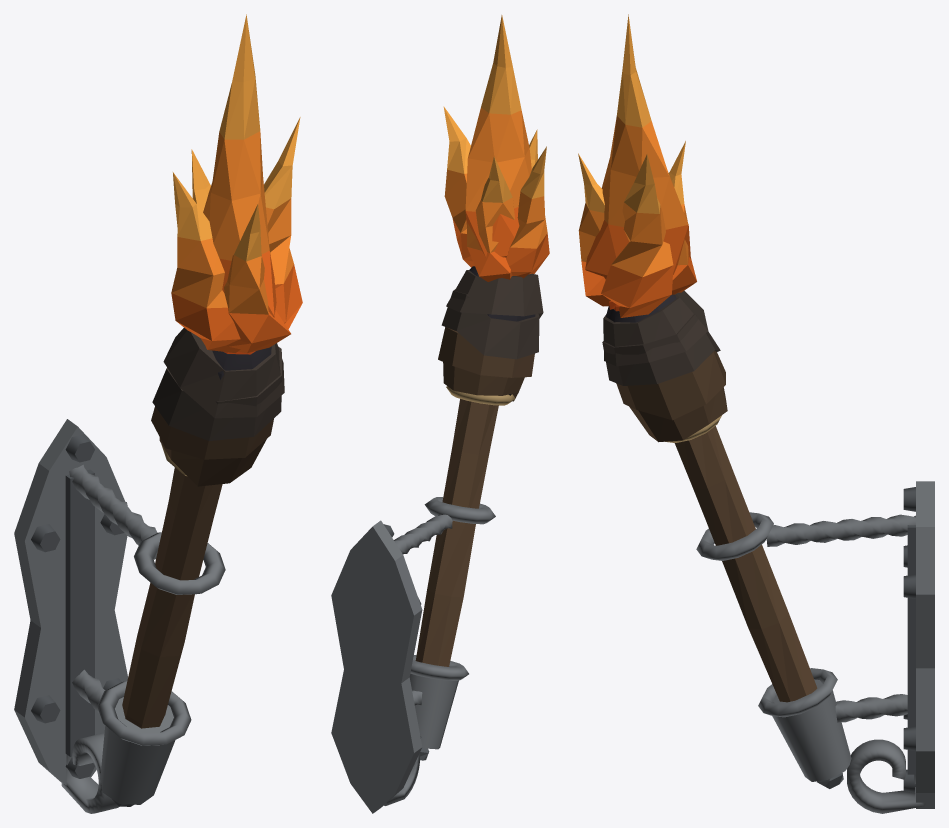
Rendered from SM_LPD_Light_TorchWallLit_01.fbx.
The picture shows the model from 3 angles, left to right: view 1: azimuth 30°, elevation 25°; view 2: azimuth 150°, elevation 25°; view 3: azimuth 270°, elevation 25°; orthographic projection. The views are drawn at different scales.
Visible parts, largest first — view 1: SM_LPD_Light_TorchWallLit_01; view 2: SM_LPD_Light_TorchWallLit_01; view 3: SM_LPD_Light_TorchWallLit_01.
Boxes of the visible parts, bbox=[...] form: SM_LPD_Light_TorchWallLit_01: bbox=[14, 14, 302, 813]; SM_LPD_Light_TorchWallLit_01: bbox=[331, 15, 549, 813]; SM_LPD_Light_TorchWallLit_01: bbox=[578, 14, 934, 813].
Size of the model in its own units: 0.1274 by 0.8399 by 0.3405.
